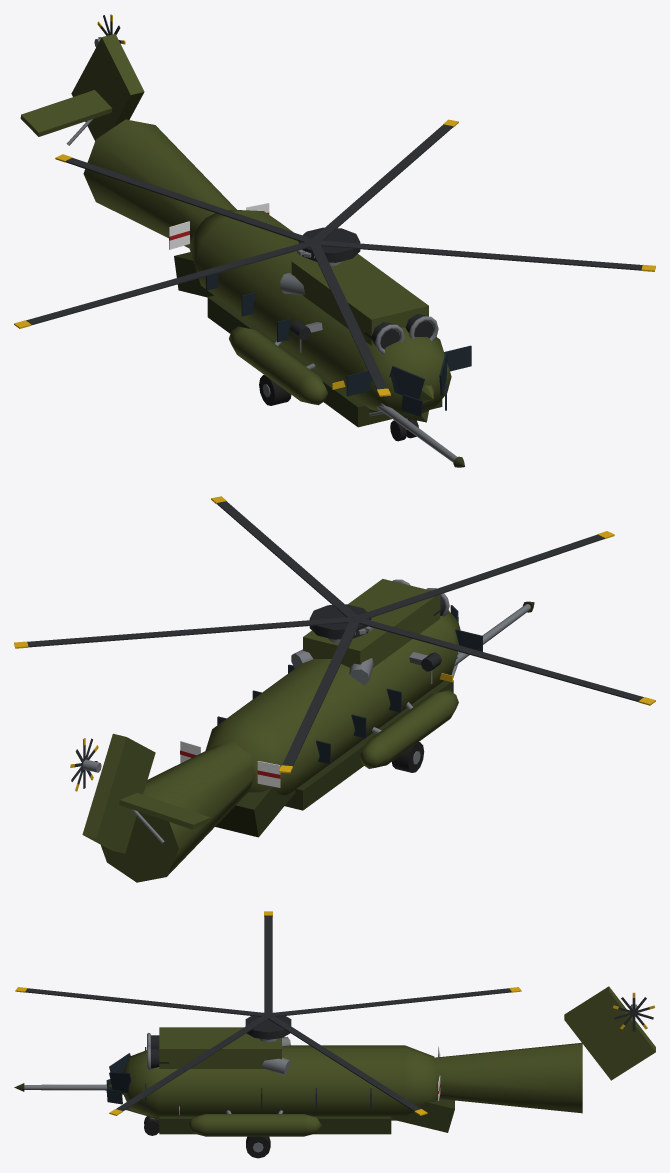
Rendered from hh3e-jolly-green-giant.glb.
3 views of the same model, one above another, from view 1: azimuth 30°, elevation 25°; view 2: azimuth 150°, elevation 25°; view 3: azimuth 270°, elevation 25° (orthographic). The views are drawn at different scales.
Parts seen in each view (by area): view 1: Mesh_MainBody, Mesh_TailBoom, Mesh_EngineDoghouse, Mesh_TailPylon, Mesh_SponsonR, Mesh_BoatBottom, Mesh_Stabilizer, Mesh_Blade_2, Mesh_Blade_0, Mesh_Blade_4, Mesh_Blade_1, Mesh_Blade_3 (+4 smaller); view 2: Mesh_MainBody, Mesh_TailBoom, Mesh_EngineDoghouse, Mesh_TailPylon, Mesh_SponsonR, Mesh_BoatBottom, Mesh_Blade_3, Mesh_RampUnder, Mesh_Blade_0, Mesh_Blade_1, Mesh_Blade_4, Mesh_Blade_2 (+3 smaller); view 3: Mesh_MainBody, Mesh_TailBoom, Mesh_TailPylon, Mesh_EngineDoghouse, Mesh_SponsonL, Mesh_BoatBottom, Mesh_Blade_1, Mesh_Blade_4, Mesh_Blade_2, Mesh_Blade_3, Mesh_RampUnder, Mesh_Blade_0 (+4 smaller).
Part boxes in pixels (x1,y1,x2,y2): Mesh_MainBody: [189, 210, 451, 415]; Mesh_TailBoom: [83, 119, 236, 248]; Mesh_EngineDoghouse: [291, 254, 428, 345]; Mesh_TailPylon: [71, 34, 144, 140]; Mesh_SponsonR: [229, 326, 327, 405]; Mesh_BoatBottom: [207, 295, 442, 427]; Mesh_Stabilizer: [20, 90, 112, 136]; Mesh_Blade_2: [313, 240, 642, 270]; Mesh_Blade_0: [26, 240, 316, 325]; Mesh_Blade_4: [65, 158, 316, 243]; Mesh_Blade_1: [309, 242, 387, 389]; Mesh_Blade_3: [309, 124, 452, 242]; Mesh_MainBody: [205, 610, 460, 795]; Mesh_TailBoom: [101, 742, 255, 882]; Mesh_EngineDoghouse: [303, 579, 440, 667]; Mesh_TailPylon: [82, 733, 155, 853]; Mesh_SponsonR: [359, 690, 458, 768]; Mesh_BoatBottom: [285, 680, 453, 810]; Mesh_Blade_3: [27, 617, 355, 647]; Mesh_RampUnder: [215, 786, 295, 837]; Mesh_Blade_0: [354, 617, 643, 701]; Mesh_Blade_1: [353, 534, 604, 620]; Mesh_Blade_4: [282, 618, 360, 766]; Mesh_Blade_2: [217, 501, 360, 619]; Mesh_MainBody: [123, 1045, 437, 1120]; Mesh_TailBoom: [432, 1043, 582, 1113]; Mesh_TailPylon: [564, 986, 655, 1080]; Mesh_EngineDoghouse: [159, 1027, 281, 1068]; Mesh_SponsonL: [187, 1114, 321, 1136]; Mesh_BoatBottom: [159, 1116, 391, 1134]; Mesh_Blade_1: [25, 988, 269, 1016]; Mesh_Blade_4: [267, 988, 511, 1016]; Mesh_Blade_2: [116, 1014, 271, 1111]; Mesh_Blade_3: [265, 1014, 420, 1111]; Mesh_RampUnder: [391, 1099, 454, 1132]; Mesh_Blade_0: [264, 915, 272, 1014].
Size of the model in its own units: 7.05 by 2.37 by 9.4.
